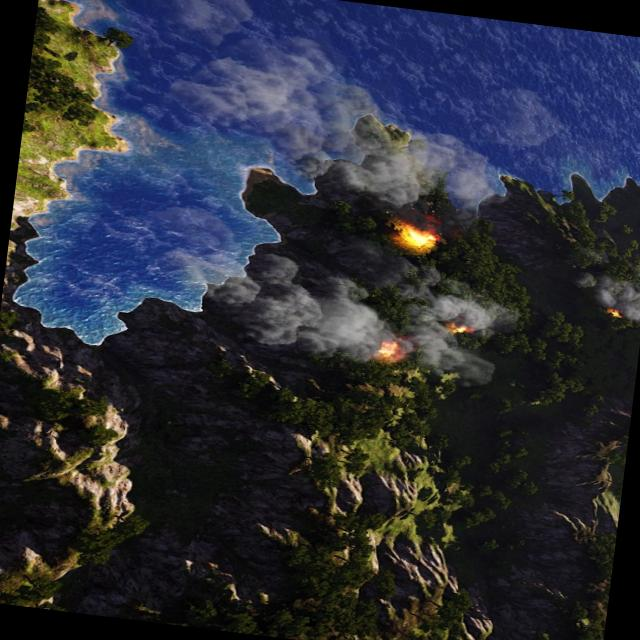fire: (388, 220, 438, 252), (372, 338, 404, 364), (444, 323, 472, 336), (603, 309, 621, 319)
smoke: (51, 0, 578, 241), (177, 217, 518, 386), (567, 269, 640, 326)
